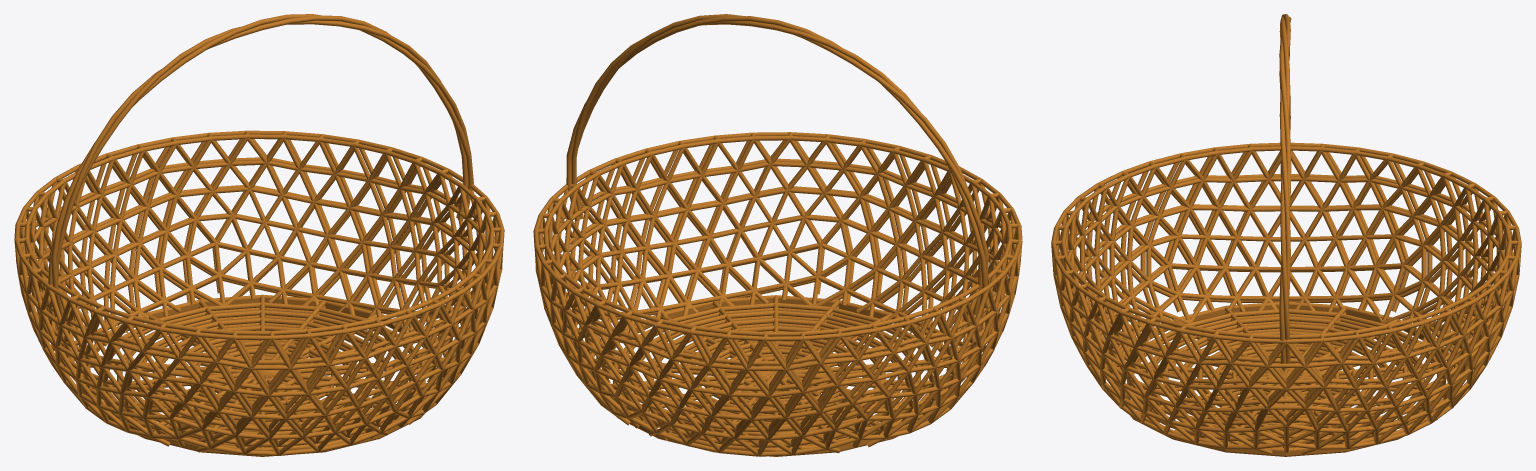
File: корзина_last.glb
The picture shows the model from 3 angles, left to right: view 1: azimuth 30°, elevation 25°; view 2: azimuth 150°, elevation 25°; view 3: azimuth 270°, elevation 25°; orthographic projection. The views are drawn at different scales.
Visible parts, largest first — view 1: GeoSphere001, Cylinder262, Cylinder261; view 2: GeoSphere001, Cylinder262, Cylinder261; view 3: GeoSphere001, Cylinder262, Cylinder261.
Boxes of the visible parts, x1=… form: GeoSphere001: x1=14, y1=130, x2=504, y2=455; Cylinder262: x1=82, y1=294, x2=437, y2=456; Cylinder261: x1=48, y1=14, x2=473, y2=316; GeoSphere001: x1=533, y1=132, x2=1022, y2=456; Cylinder262: x1=600, y1=295, x2=954, y2=456; Cylinder261: x1=566, y1=14, x2=988, y2=317; GeoSphere001: x1=1051, y1=142, x2=1521, y2=454; Cylinder262: x1=1113, y1=301, x2=1458, y2=456; Cylinder261: x1=1279, y1=14, x2=1291, y2=369.
Bounding box in the file's own units: 0.5335 × 0.4331 × 0.5335.
